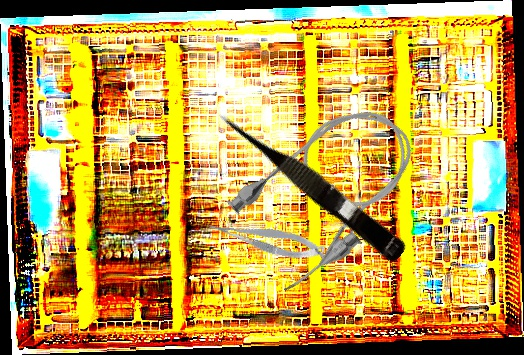Cannula: (215, 83, 441, 302)
Micro Scissor: (212, 99, 412, 265), (204, 206, 329, 271)
